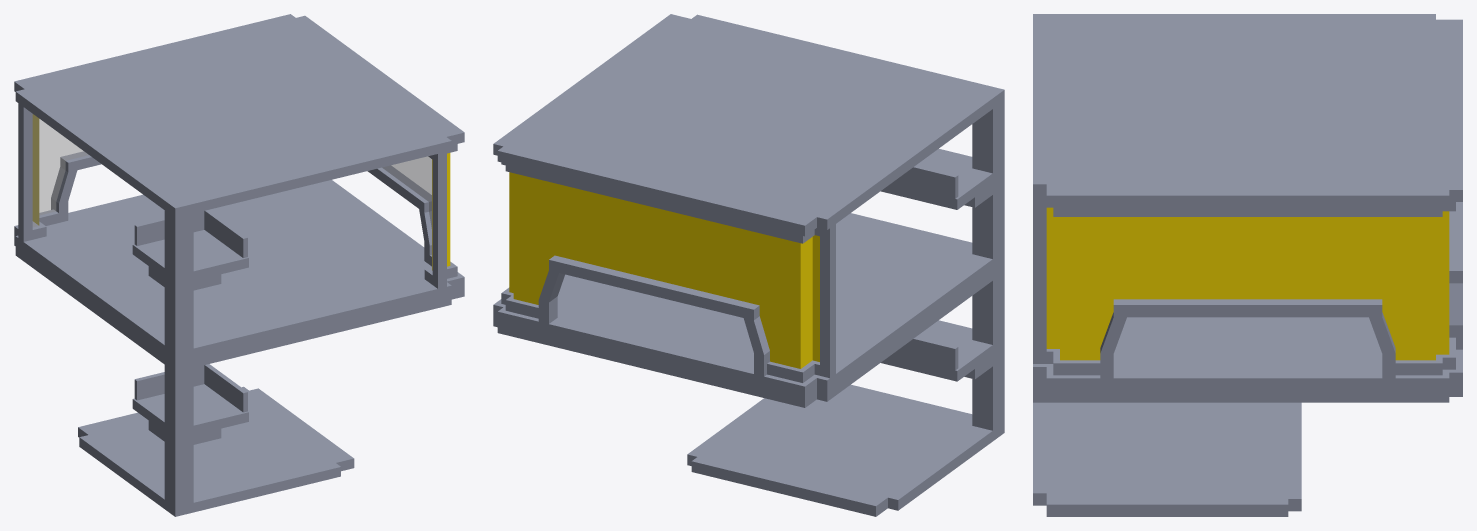
Rendered from bldg_0002_outercorner_v03.gltf.
3 renders of one model, left to right at view 1: azimuth 30°, elevation 25°; view 2: azimuth 150°, elevation 25°; view 3: azimuth 270°, elevation 25°, orthographic. The views are drawn at different scales.
Parts seen in each view (by area): view 1: massing, frame 2, window, frame 1; view 2: massing, window, frame 2; view 3: massing, window, frame 2.
Part boxes in pixels (x1=…): massing: x1=14, y1=14, x2=464, y2=516; frame 2: x1=18, y1=103, x2=457, y2=288; window: x1=32, y1=114, x2=450, y2=270; frame 1: x1=39, y1=157, x2=431, y2=266; massing: x1=493, y1=14, x2=1004, y2=516; window: x1=509, y1=172, x2=819, y2=368; frame 2: x1=501, y1=163, x2=835, y2=382; massing: x1=1033, y1=14, x2=1462, y2=516; window: x1=1046, y1=207, x2=1449, y2=360; frame 2: x1=1033, y1=196, x2=1462, y2=378.
Size of what is drawn, in the model's own units: 16 by 16 by 16.
